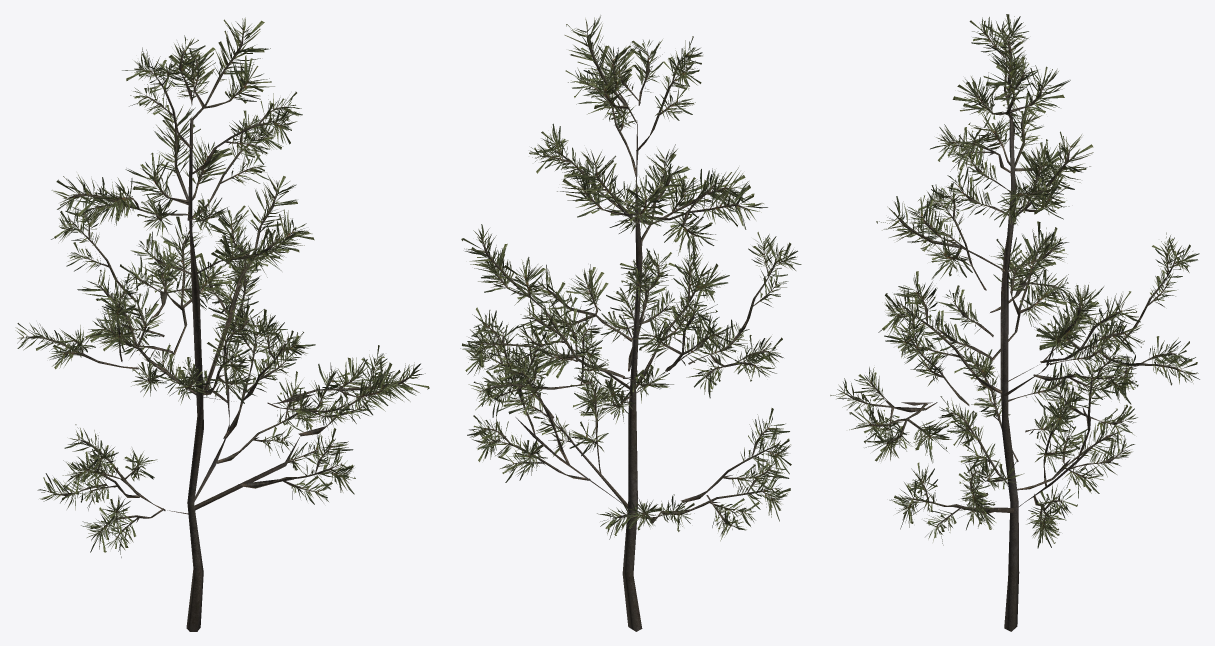
The model's file is pine_sapling_small.glb.
3 renders of one model, left to right at view 1: azimuth 30°, elevation 25°; view 2: azimuth 150°, elevation 25°; view 3: azimuth 270°, elevation 25°, orthographic.
Parts seen in each view (by area): view 1: pine_sapling_small_a; view 2: pine_sapling_small_a; view 3: pine_sapling_small_a.
Boxes of the visible parts, <box> form: pine_sapling_small_a: <box>15,17,429,631</box>; pine_sapling_small_a: <box>460,15,801,631</box>; pine_sapling_small_a: <box>830,14,1199,631</box>.
Size of the model in its own units: 0.7869 by 1.3 by 0.7276.
2 materials, 2 textured.
